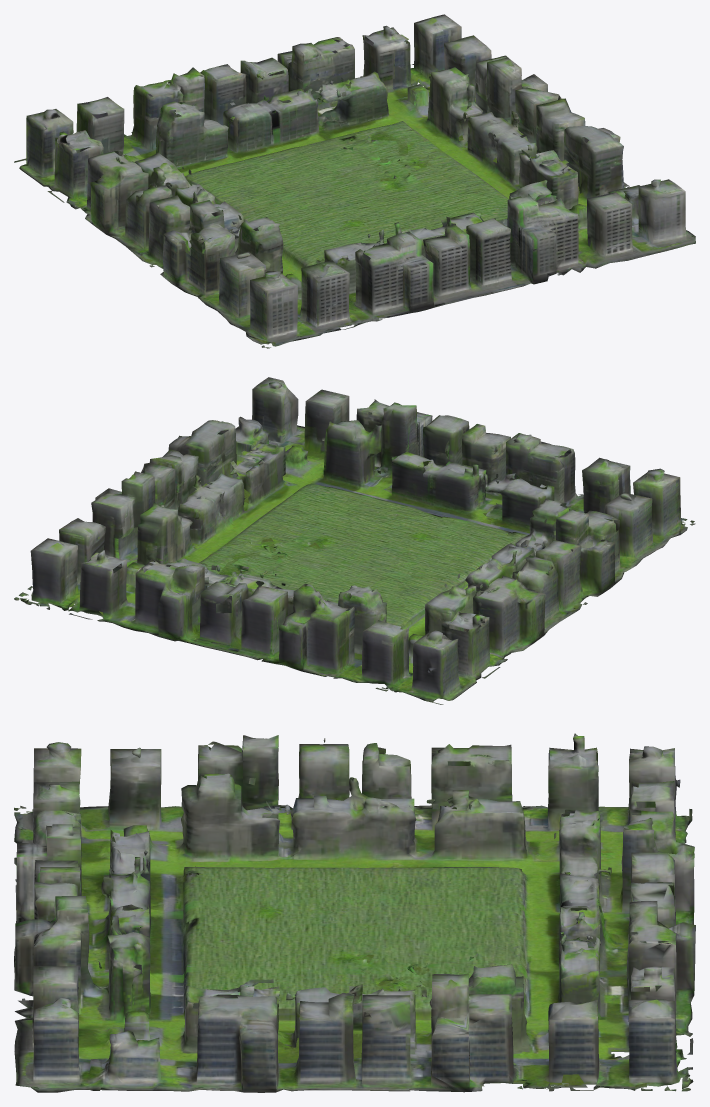
Rendered from city.glb.
The picture shows the model from 3 angles, top to bottom: view 1: azimuth 30°, elevation 25°; view 2: azimuth 150°, elevation 25°; view 3: azimuth 270°, elevation 25°; orthographic projection. The views are drawn at different scales.
Size of the model in its own units: 2 by 0.3024 by 2.
1 material, 1 textured.
